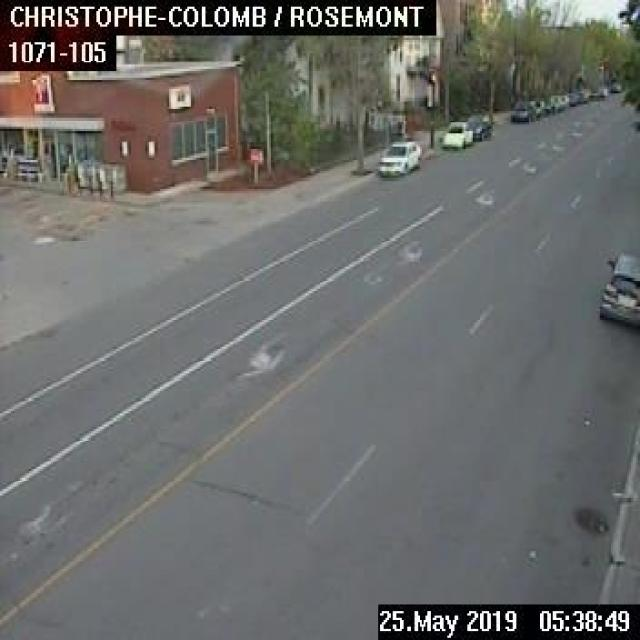vehicle: (598, 252, 638, 326), (376, 140, 420, 176), (441, 122, 471, 146), (466, 113, 491, 139), (509, 102, 533, 121), (608, 75, 623, 91), (530, 98, 542, 116), (549, 94, 561, 110), (541, 98, 553, 113), (565, 91, 577, 104), (576, 90, 587, 103), (558, 94, 568, 106)
